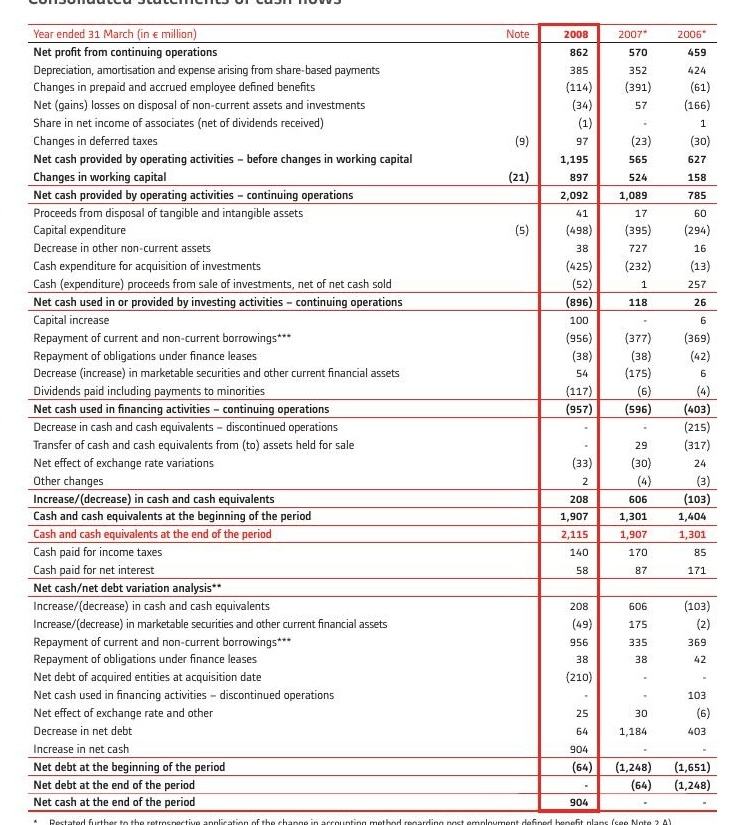table: (0, 0, 738, 825)
